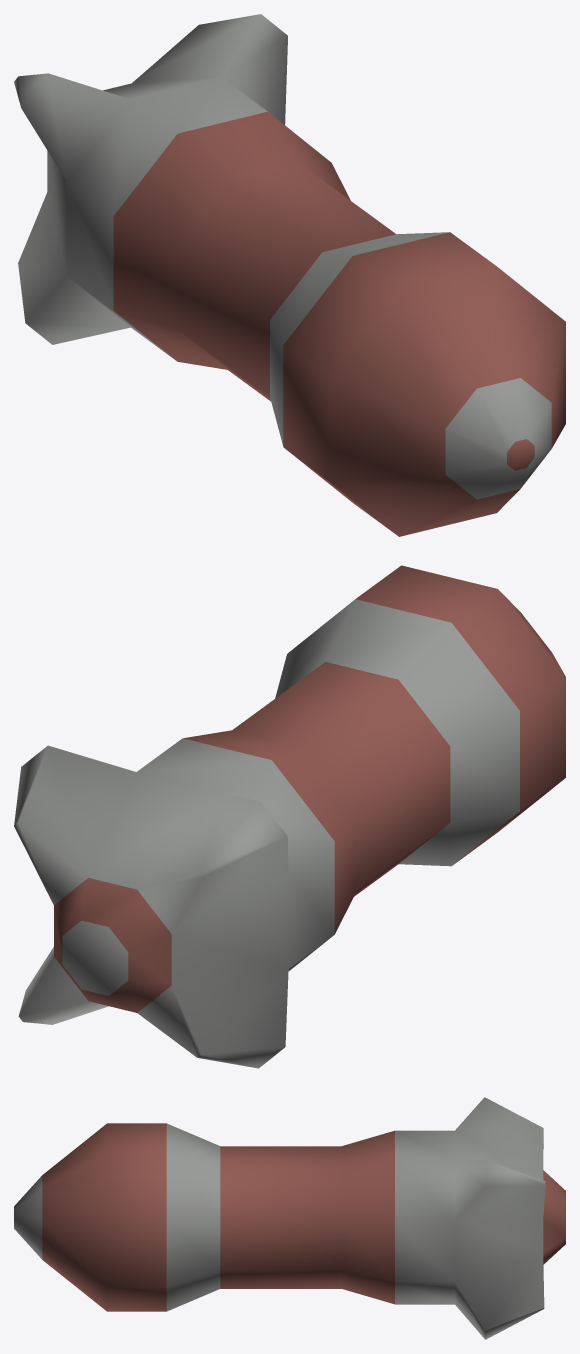
File: Detonator.fbx
3 views of the same model, one above another, from view 1: azimuth 30°, elevation 25°; view 2: azimuth 150°, elevation 25°; view 3: azimuth 270°, elevation 25° (orthographic). The views are drawn at different scales.
Visible parts, largest first — view 1: Detonator; view 2: Detonator; view 3: Detonator.
Boxes of the visible parts, x1=… form: Detonator: x1=14, y1=14, x2=565, y2=536; Detonator: x1=14, y1=565, x2=565, y2=1068; Detonator: x1=14, y1=1097, x2=565, y2=1339.
Size of the model in its own units: 278 by 280 by 773.
